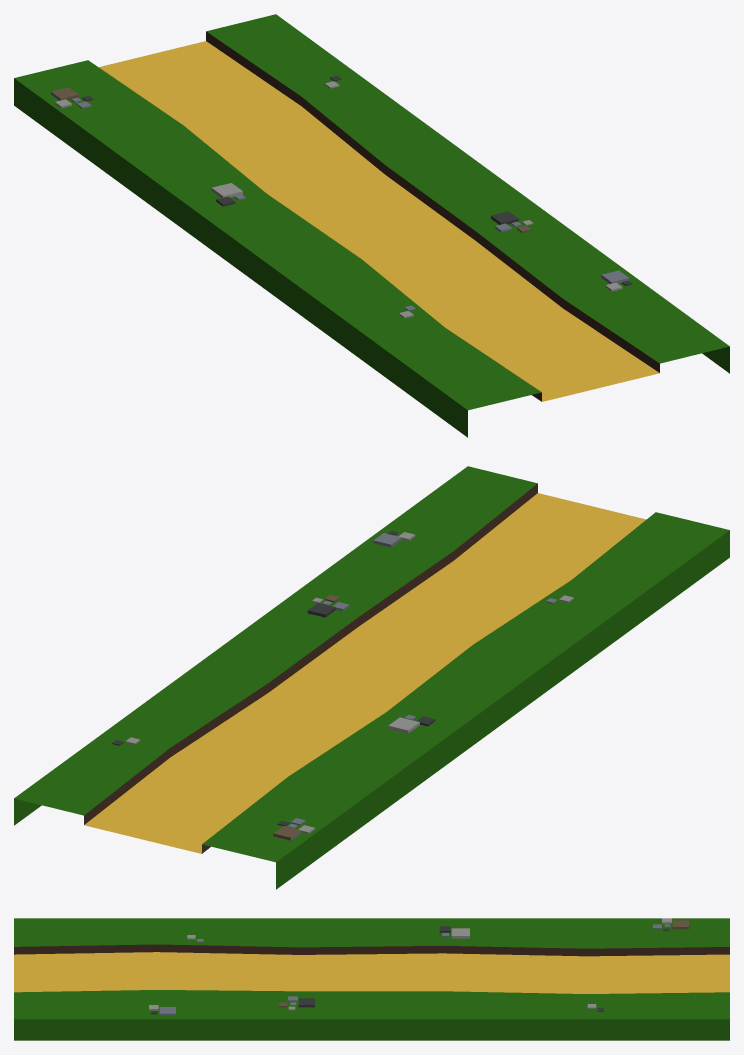
The model's file is road.fbx.
The picture shows the model from 3 angles, top to bottom: view 1: azimuth 30°, elevation 25°; view 2: azimuth 150°, elevation 25°; view 3: azimuth 270°, elevation 25°; orthographic projection. The views are drawn at different scales.
Visible parts, largest first — view 1: Cube, Cube.001; view 2: Cube, Cube.001; view 3: Cube, Cube.001.
Boxes of the visible parts, x1=… form: Cube: x1=14, y1=14, x2=729, y2=437; Cube.001: x1=51, y1=75, x2=631, y2=318; Cube: x1=14, y1=466, x2=729, y2=889; Cube.001: x1=112, y1=530, x2=573, y2=840; Cube: x1=14, y1=918, x2=729, y2=1040; Cube.001: x1=149, y1=918, x2=688, y2=1015.
Size of the model in its own units: 400 by 44.55 by 1200.
